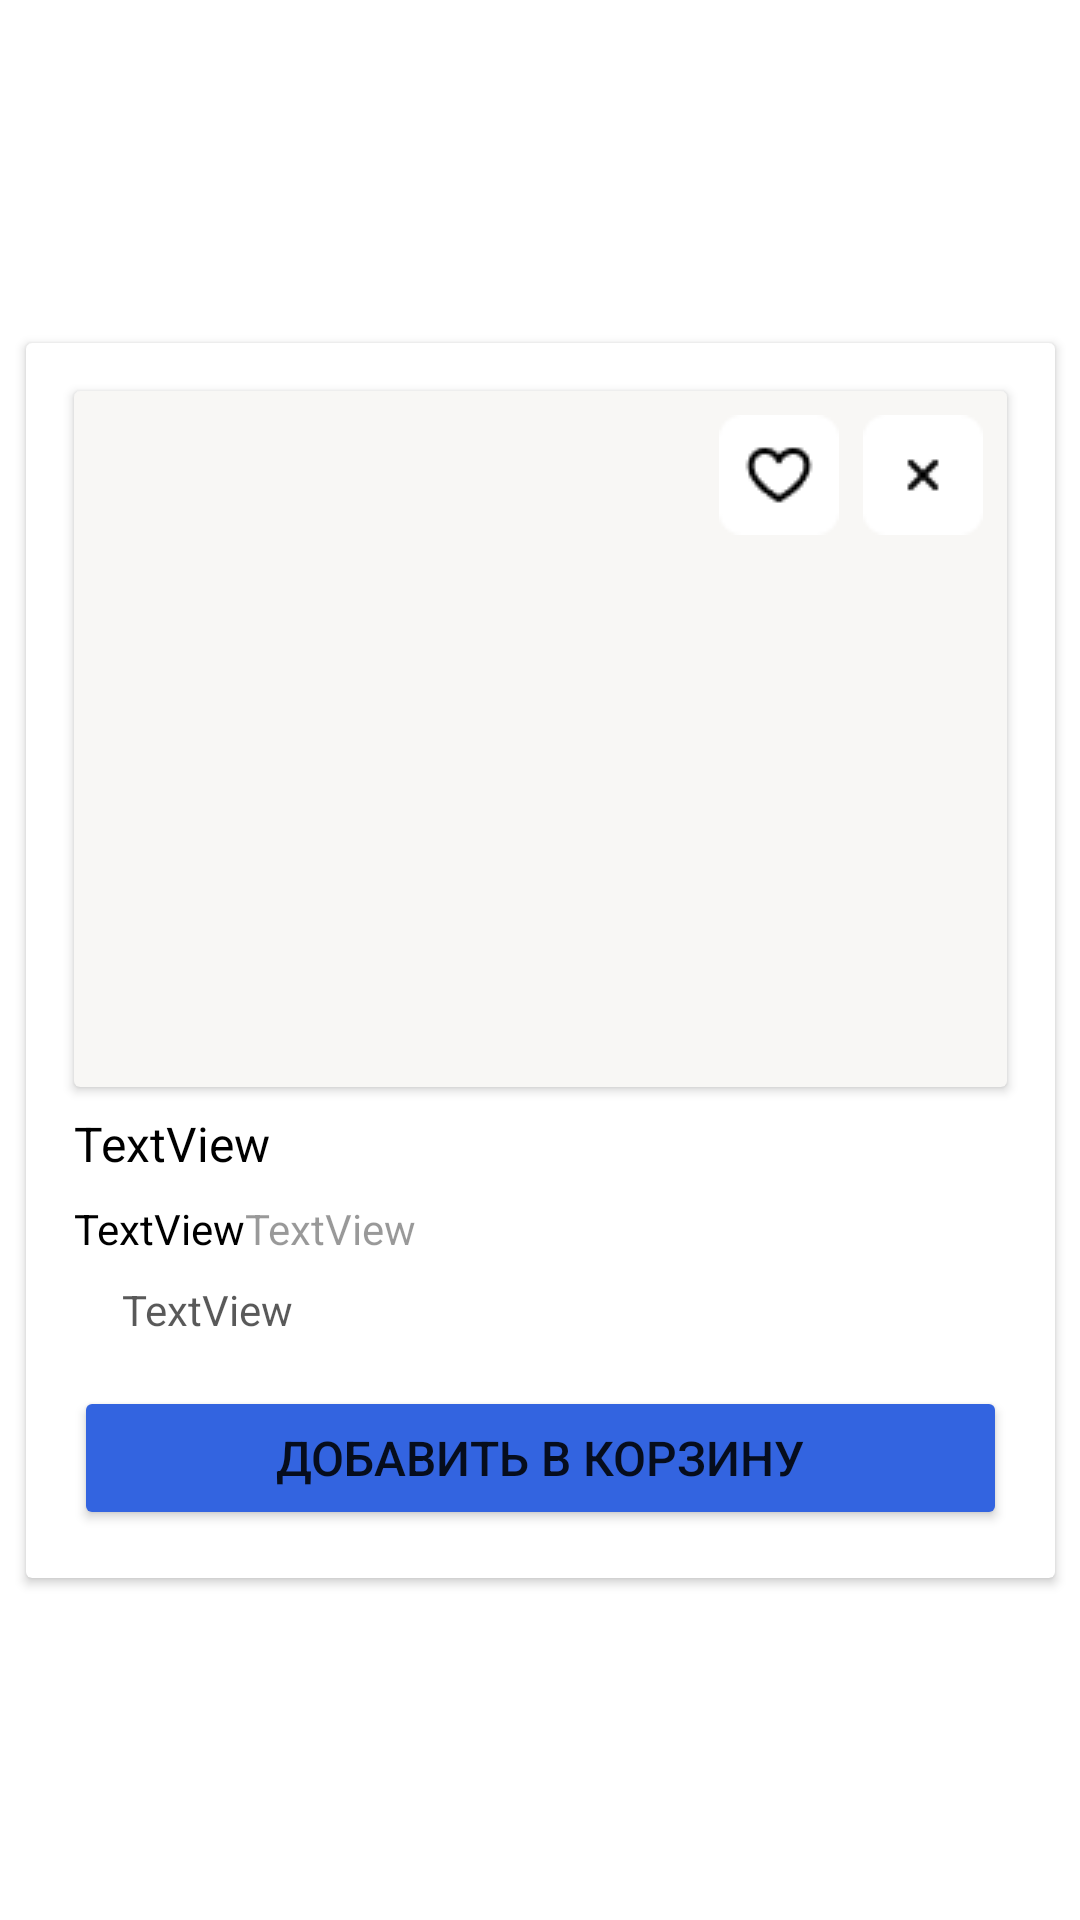

Icons on this 1080*1920 Android screen, each with its box as (x1, y1, x2, y2):
close: (907, 459, 939, 491)
like: (719, 415, 839, 535)
